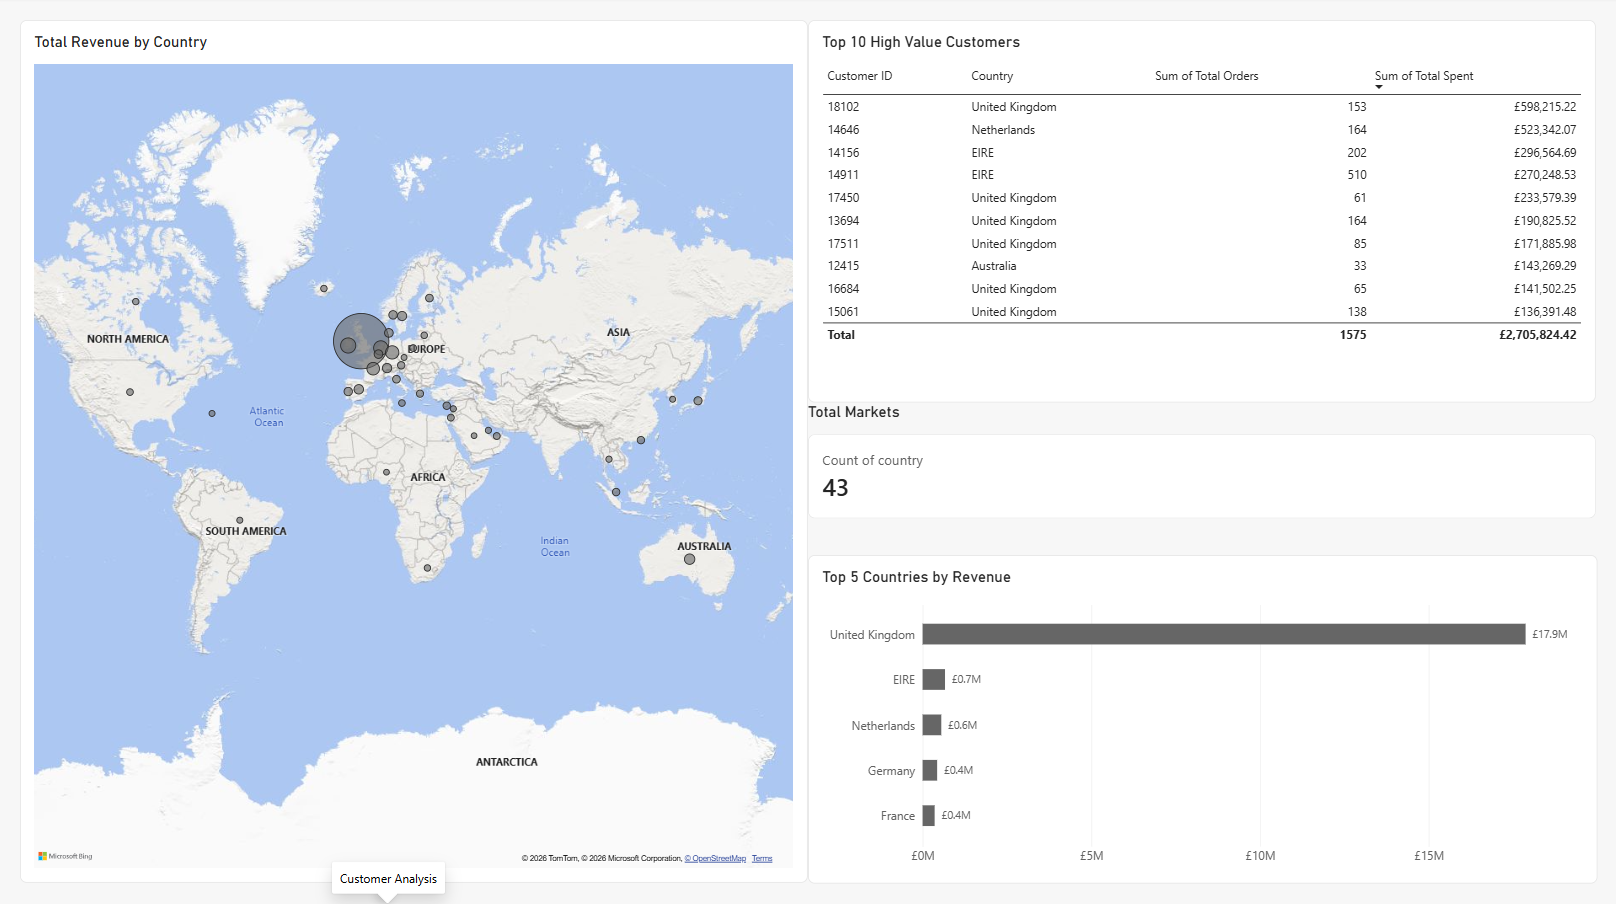

The page's visual inventory and layout, read from the dashboard file:
{"tool":"powerbi","page":{"name":"Customer Analysis","canvas":[1920,1080],"ordinal":2},"visuals":[{"type":"map","title":"Total Revenue by Country","fields":{"Category":["Demographics.country"],"Size":["Sum(Demographics.total_revenue)"]},"box":[24.8,27.7,935.2,1024.2],"z":0},{"type":"cardVisual","title":"Total Markets","fields":{"Data":["Count(Demographics.country)"]},"box":[960,481.5,935.2,137.1],"z":1000},{"type":"clusteredBarChart","title":"Top 5 Countries by Revenue","fields":{"Category":["Demographics.country"],"Y":["Sum(Demographics.total_revenue)"]},"box":[960,662.4,936.7,389.5],"z":3000},{"type":"tableEx","title":"Top 10 High Value Customers","fields":{"Values":["Query1.customerid","Query1.Country","Sum(Query1.totalorders)","Sum(Query1.totalspent)"]},"box":[960,27.7,935.2,453.7],"z":3001}]}

Visuals, with their boxes in screenshot pixels (x1, y1, x2, y2), scaled from the page's 1920x1080 canvas onto the 1616x904 screenshot:
"Total Revenue by Country" map: [x1=21, y1=23, x2=808, y2=880]
"Total Markets" cardVisual: [x1=808, y1=403, x2=1595, y2=518]
"Top 5 Countries by Revenue" clusteredBarChart: [x1=808, y1=554, x2=1596, y2=880]
"Top 10 High Value Customers" tableEx: [x1=808, y1=23, x2=1595, y2=403]
